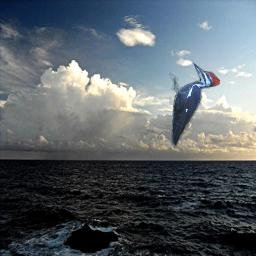Woodpecker: (169, 60, 220, 150)
